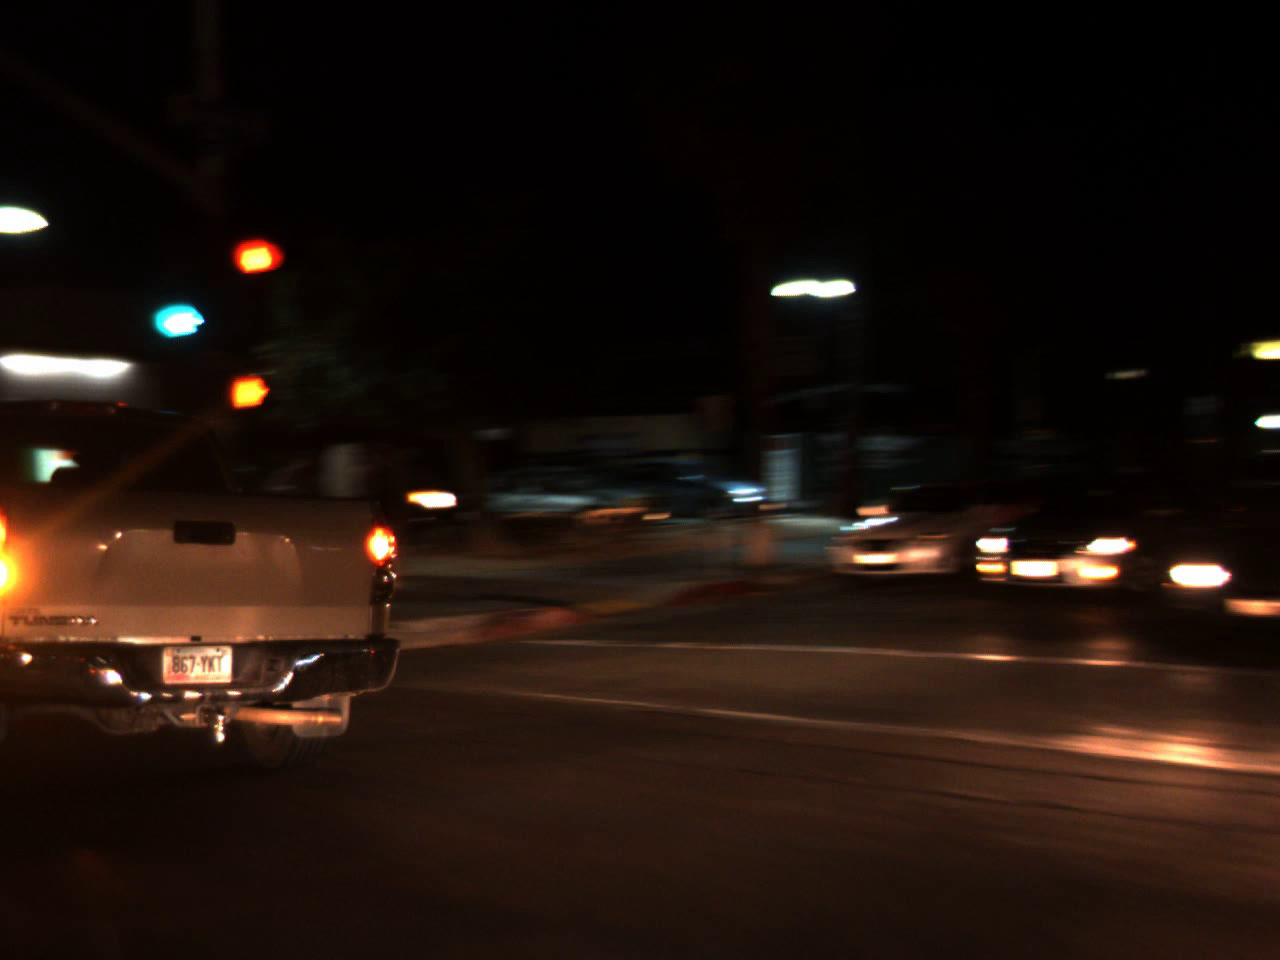go: (140, 275, 217, 344)
